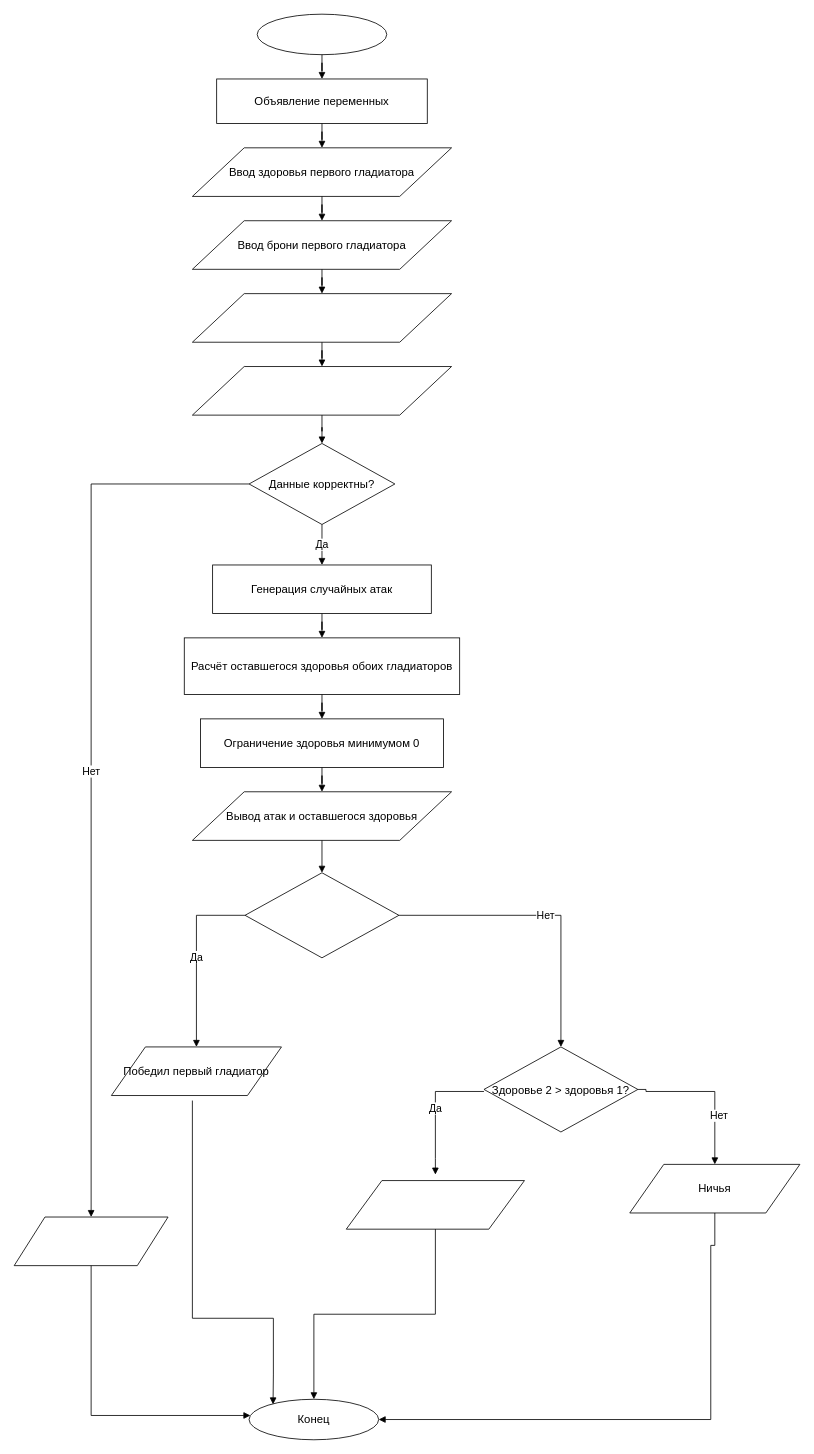
Some shapes in this 814 by 1454 pixel diagram are drawn without their labels. Each missing label, with the centre of its shape:
"Ввод брони второго гладиатора" belongs at (322,390).
"Ввод здоровья второго гладиатора" belongs at (322,317).
"Вывод ошибки" belongs at (90,1241).
"Здоровье 1 > здоровья 2?" belongs at (321,915).
"Начало" belongs at (321,34).
"Победил второй гладиатор" belongs at (434,1204).
